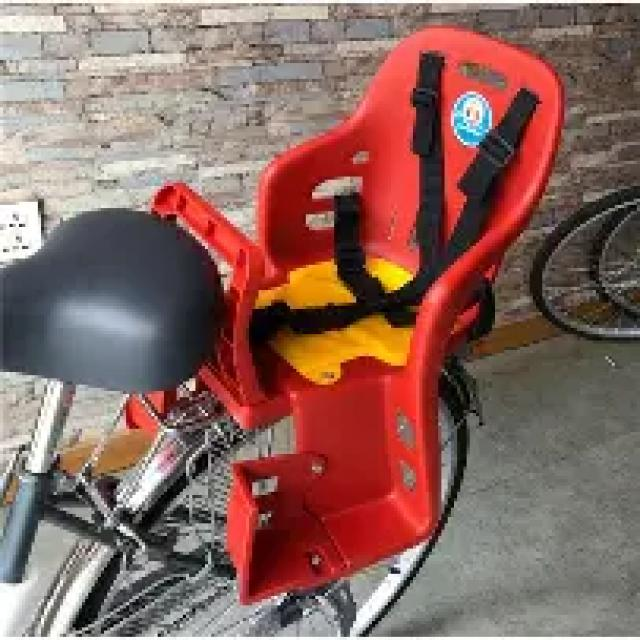childseat: (194, 22, 566, 601)
